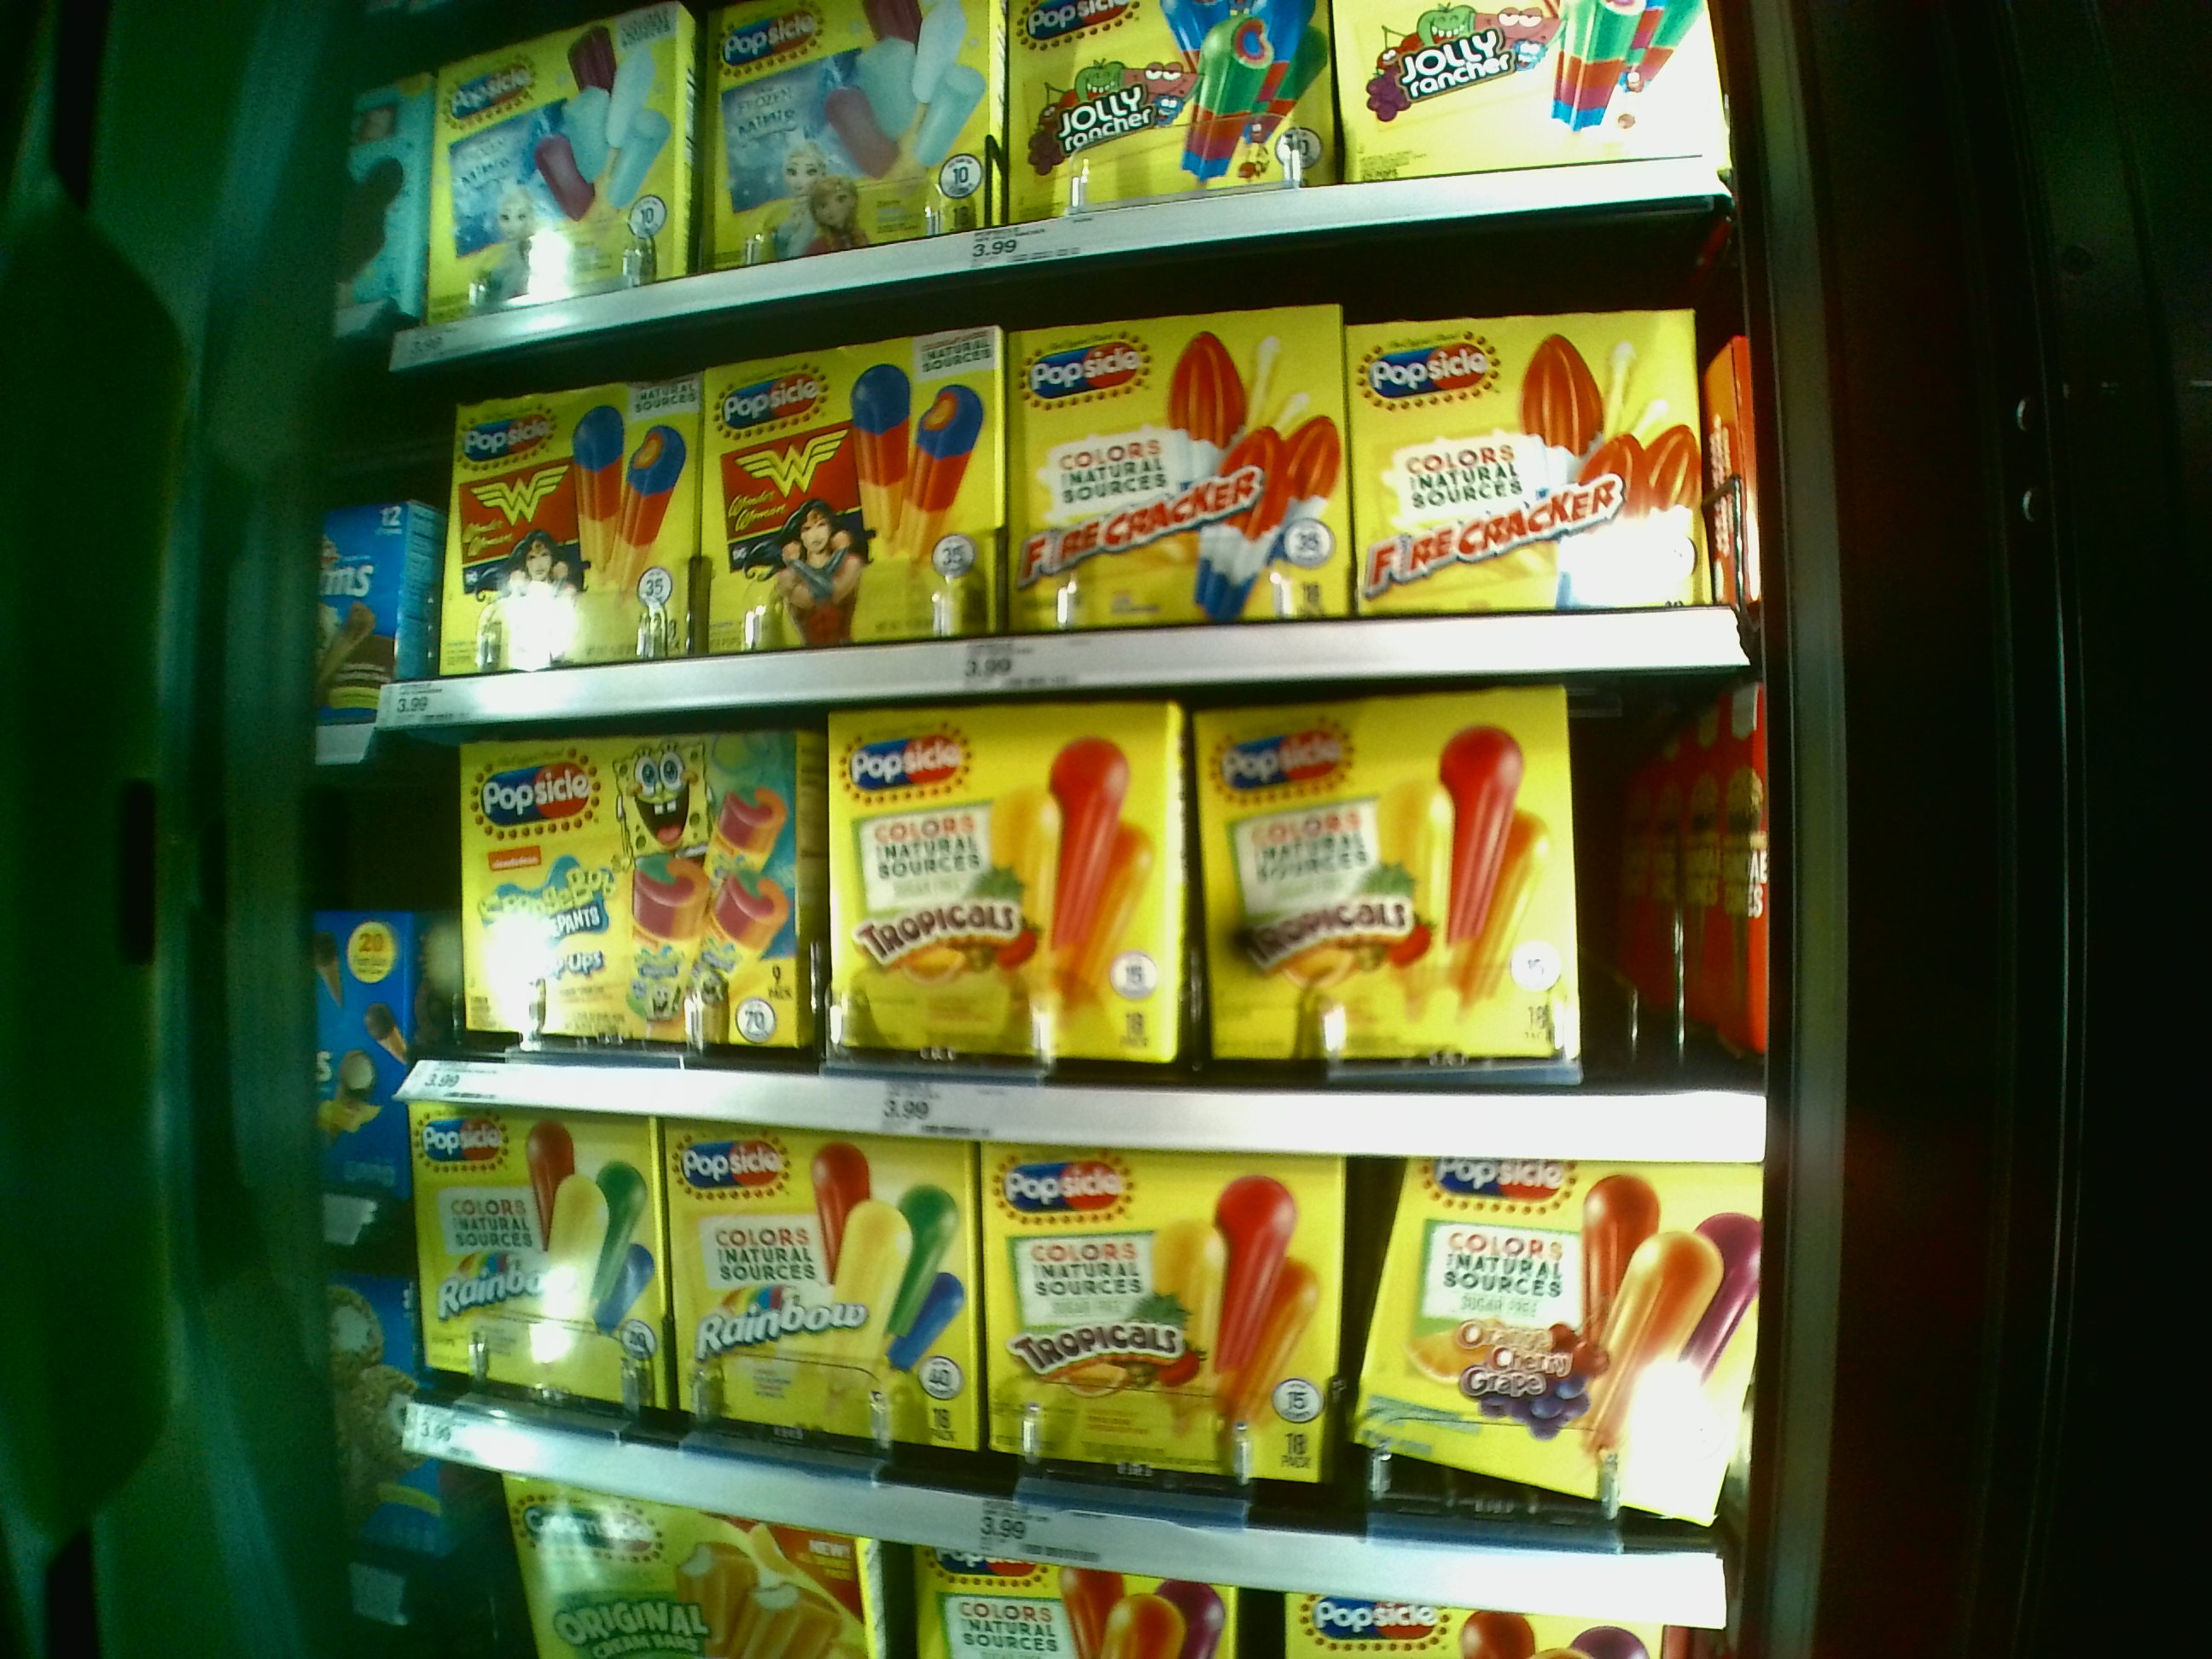shelf: (399, 1112, 1766, 1600), (395, 692, 1766, 1162), (399, 263, 1750, 692)
